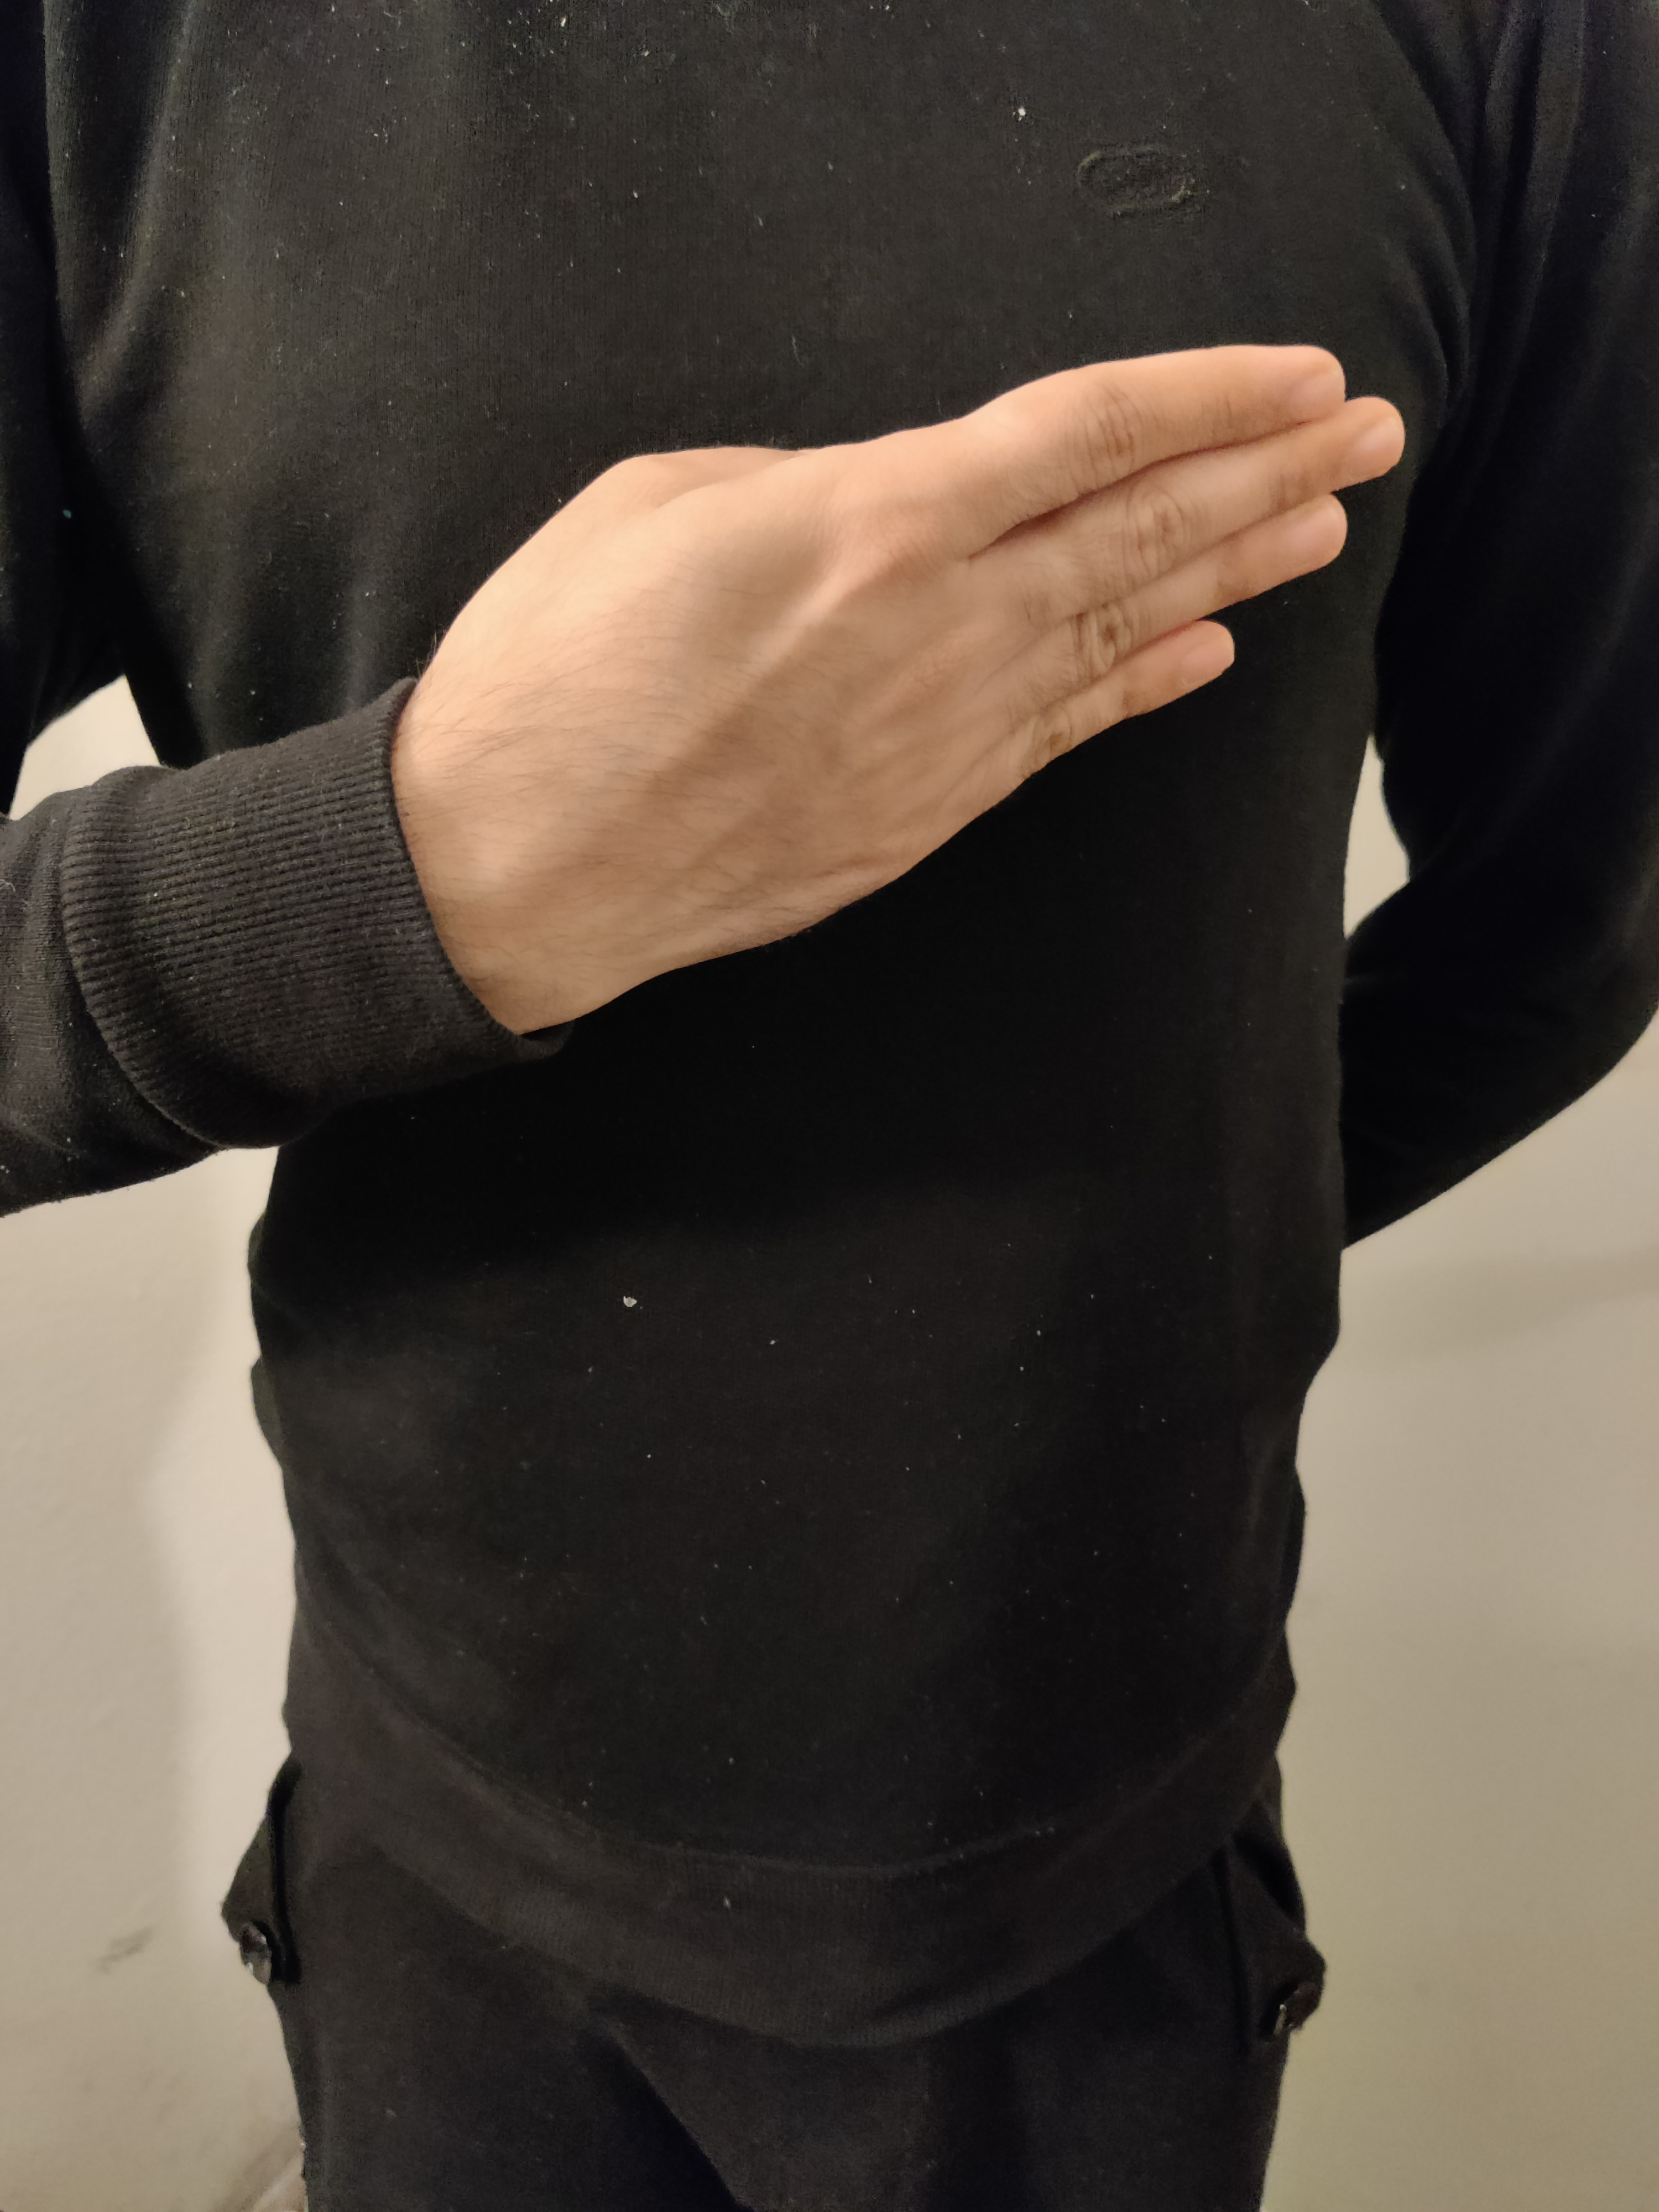left: (40, 247, 1542, 1263)
